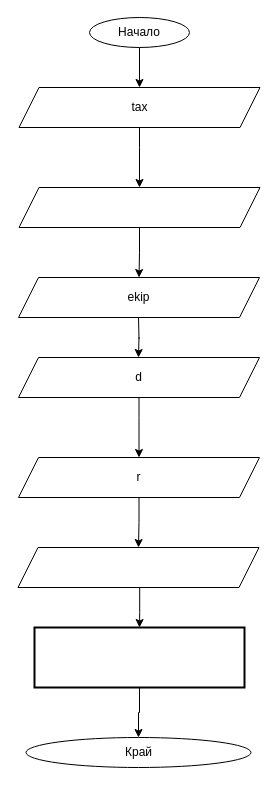
This 277x785 diagram has some shape labels left out. The centre of each missing label's shape, as x and y in pixels:
"idea" belongs at point 138,567.
"S=7*tax+webs+20*r+idea+7*ekip+d" belongs at point 139,657.
"webs" belongs at point 139,207.
